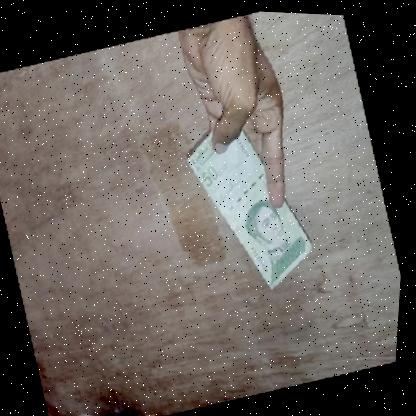fifty-front-vef: (178, 104, 328, 300)
